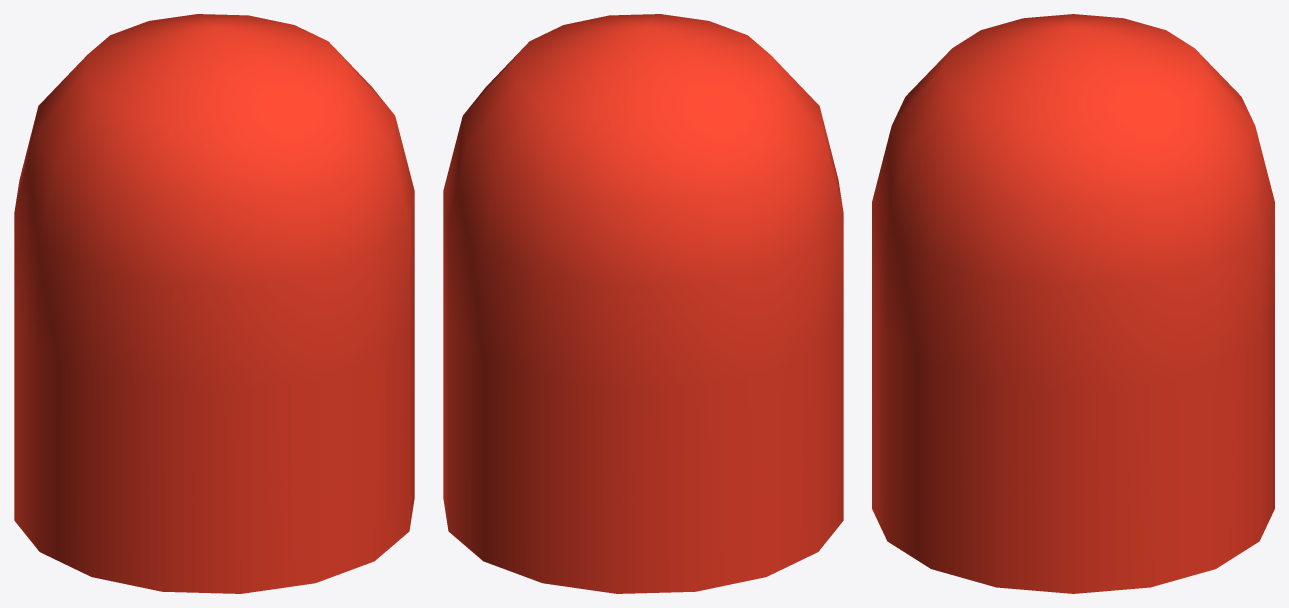
File: Arm_Sleeve_LC_01_R.fbx
The picture shows the model from 3 angles, left to right: view 1: azimuth 30°, elevation 25°; view 2: azimuth 150°, elevation 25°; view 3: azimuth 270°, elevation 25°; orthographic projection.
Visible parts, largest first — view 1: Arm_Sleeve_LC_01.R; view 2: Arm_Sleeve_LC_01.R; view 3: Arm_Sleeve_LC_01.R.
Part boxes in pixels (<box>): Arm_Sleeve_LC_01.R: <box>14,14,414,593</box>; Arm_Sleeve_LC_01.R: <box>443,14,843,593</box>; Arm_Sleeve_LC_01.R: <box>872,14,1274,593</box>.
Size of the model in its own units: 48.18 by 63.45 by 48.18.
